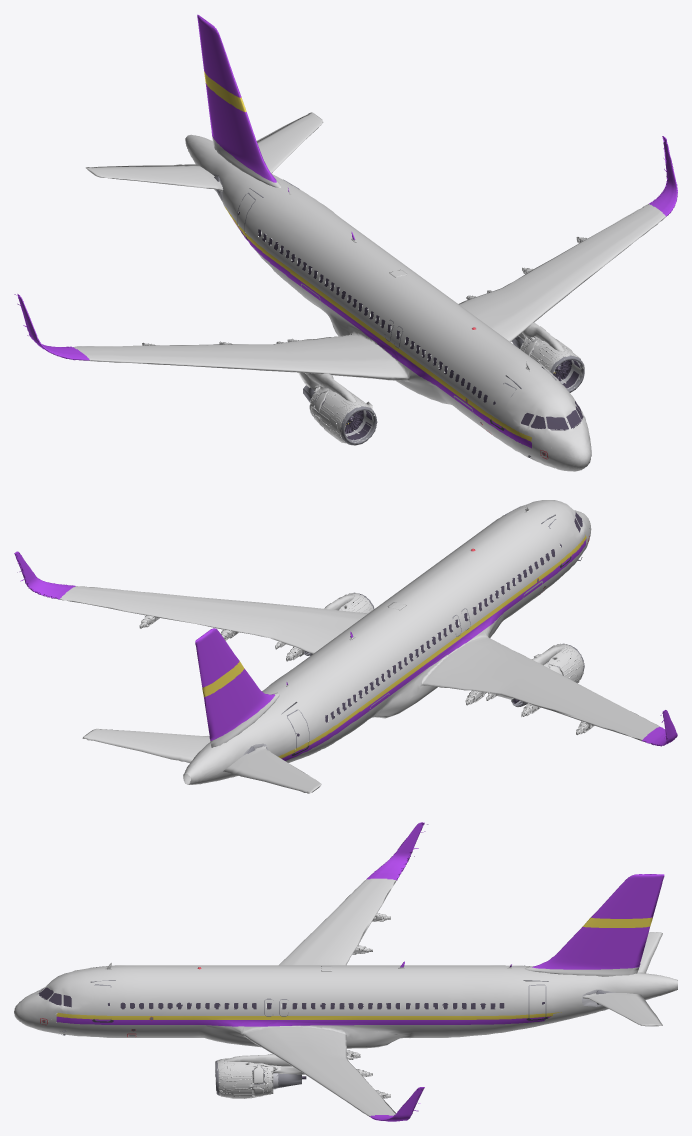
3 views of the same model, one above another, from view 1: azimuth 30°, elevation 25°; view 2: azimuth 150°, elevation 25°; view 3: azimuth 270°, elevation 25° (orthographic). The views are drawn at different scales.
Parts seen in each view (by area): view 1: Airliner; view 2: Airliner; view 3: Airliner.
Boxes of the visible parts, bbox=[...] form: Airliner: bbox=[14, 14, 677, 471]; Airliner: bbox=[14, 500, 677, 793]; Airliner: bbox=[14, 822, 677, 1121].
Size of the model in its own units: 8.52 by 2.69 by 9.02.
